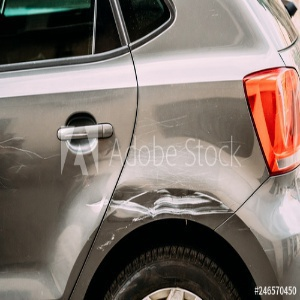door_scratch: (45, 175, 240, 223)
